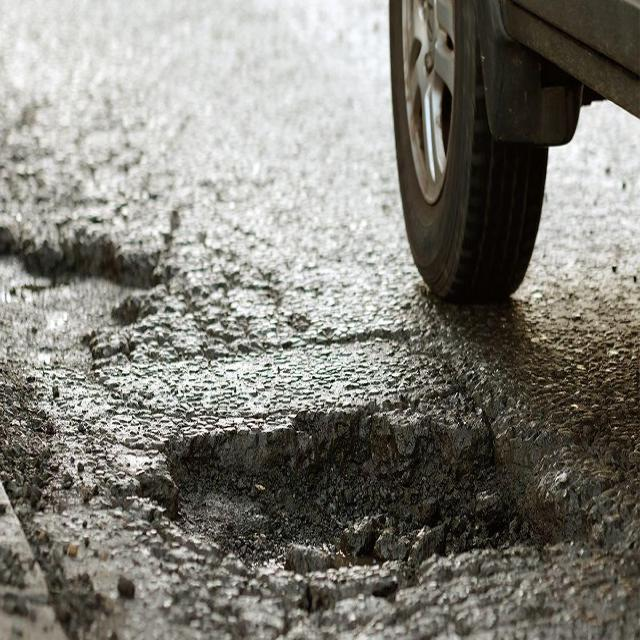Pothole: (136, 408, 613, 578)
